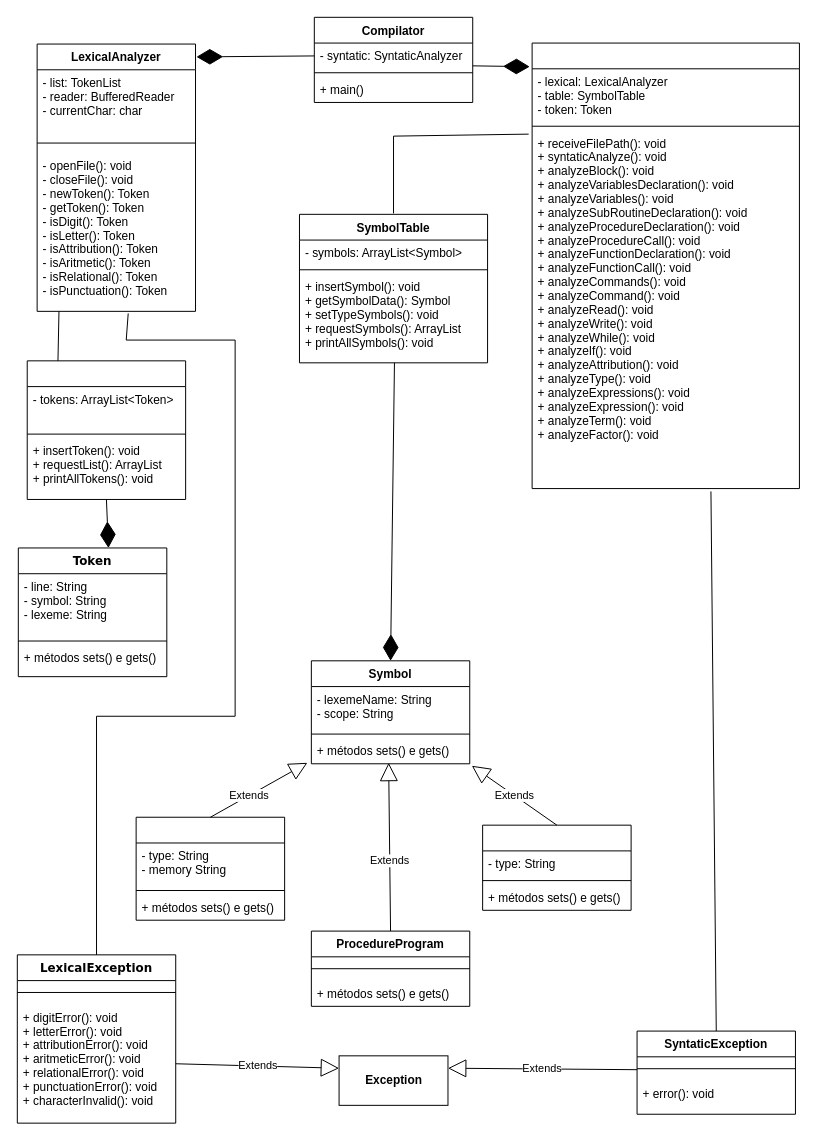
The diagram is 817 pixels wide and 1143 high, and some of its shapes have lost their labels. Here are the shapes that lost their labels. From the top down, the box of each, then its label:
(531, 42, 799, 489): SyntaticAnalyzer
(26, 360, 186, 499): TokenList
(135, 816, 285, 920): Variable
(482, 824, 631, 910): Function
